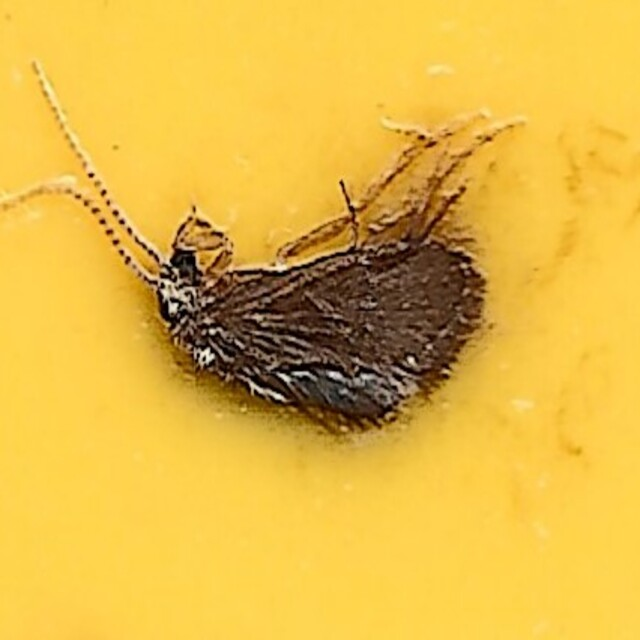Trichoptera: (150, 202, 490, 438)
